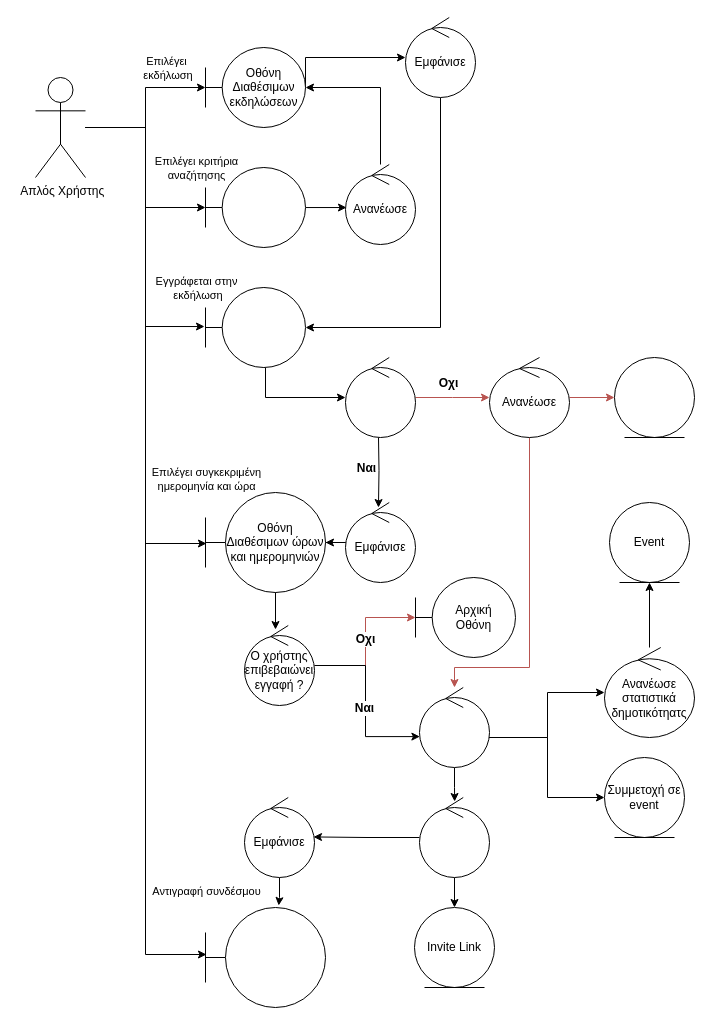
This 712x1025 diagram has some shape labels left out. Each missing label, with the box of its shape:
Score: (614, 356, 694, 438)
Αποθήκευσε: (418, 686, 490, 768)
Δημιούργησε: (418, 796, 490, 878)
κενό invite link ?: (344, 356, 416, 438)
Οθόνη Επιλογής κριτηρίων αναζήτσης: (204, 166, 306, 248)
Οθόνη Λεπτομερών στοιχείων Εκδήλωσης: (204, 286, 306, 368)
Οθόνη με το Προσωπικό invite link: (204, 906, 326, 1008)
